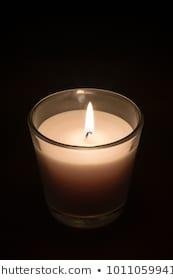fire: (80, 99, 97, 134)
